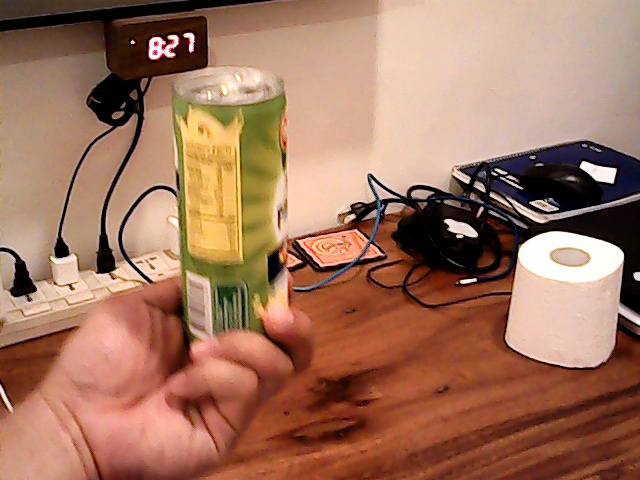Pine Juice: (153, 43, 318, 357)
